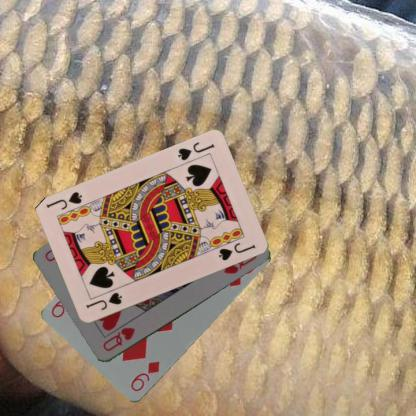9d: (128, 359, 161, 393)
Js: (82, 290, 124, 312), (175, 140, 216, 162)
Qh: (100, 324, 136, 353)
